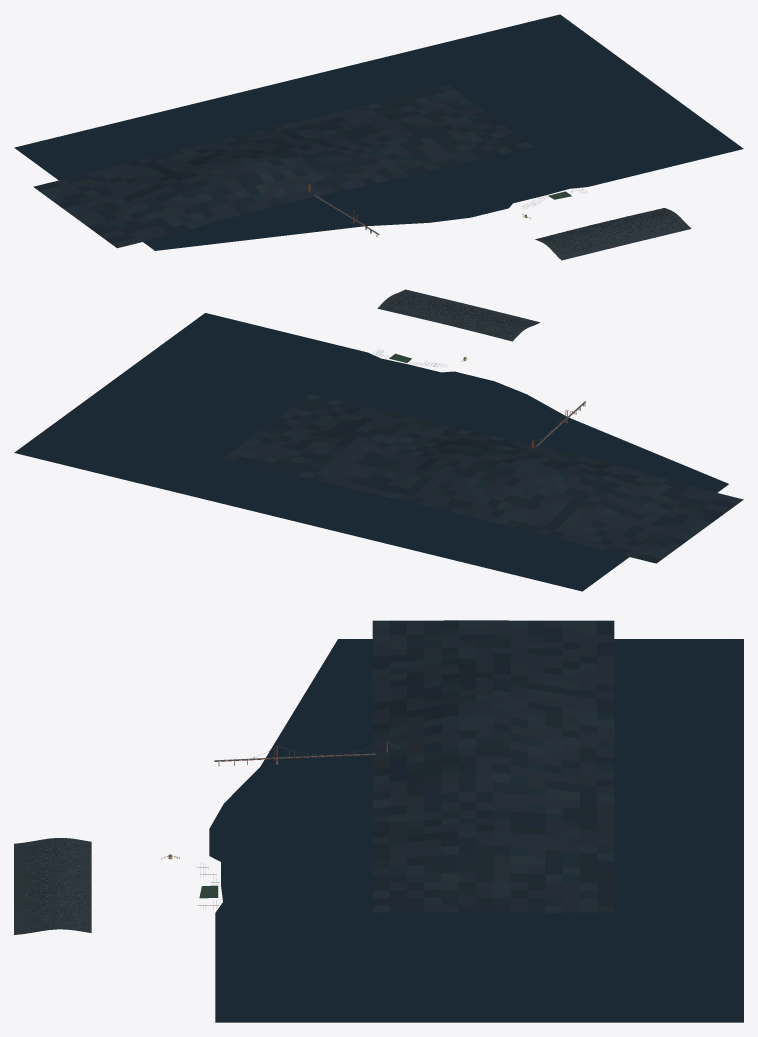
File: landmarks.glb
3 renders of one model, top to bottom at view 1: azimuth 30°, elevation 25°; view 2: azimuth 150°, elevation 25°; view 3: azimuth 270°, elevation 25°, orthographic. The views are drawn at different scales.
Visible parts, largest first — view 1: San_Francisco_Bay, Marin_Headlands_And_Pacific_Heights; view 2: San_Francisco_Bay, Marin_Headlands_And_Pacific_Heights; view 3: San_Francisco_Bay, Marin_Headlands_And_Pacific_Heights.
Boxes of the visible parts, x1,y1,x2,y2 form: San_Francisco_Bay: [14, 14, 743, 250]; Marin_Headlands_And_Pacific_Heights: [33, 85, 691, 260]; San_Francisco_Bay: [14, 313, 728, 591]; Marin_Headlands_And_Pacific_Heights: [223, 289, 743, 563]; San_Francisco_Bay: [209, 639, 743, 1022]; Marin_Headlands_And_Pacific_Heights: [14, 620, 614, 934].
Bounding box in the file's own units: 11000 × 302 × 8450.
